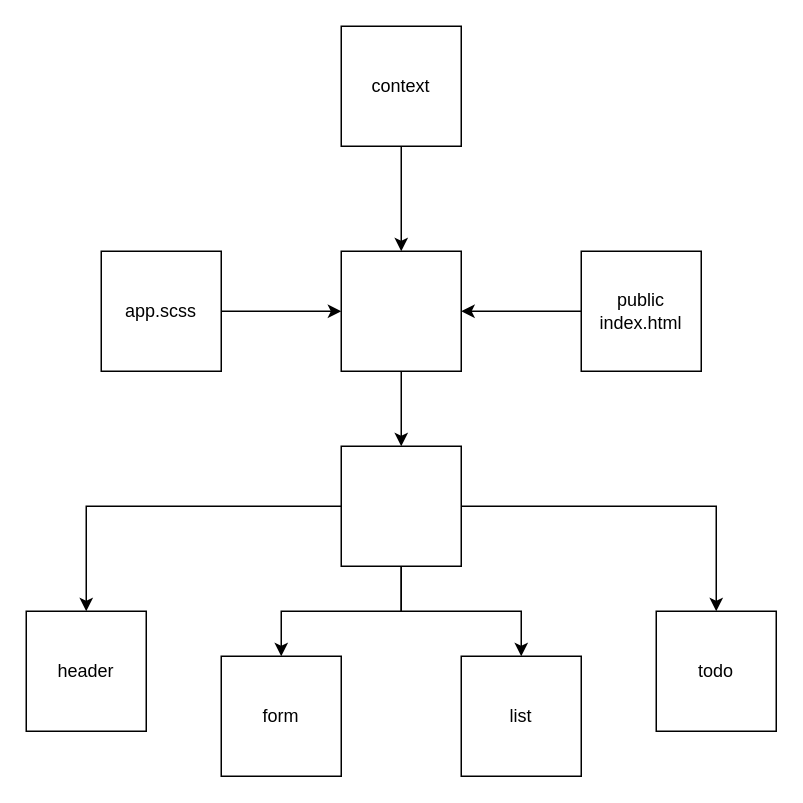
Some shapes in this 803 by 803 pixel diagram are drawn without their labels. Each missing label, with the box of its shape:
components: (340, 445, 461, 566)
src App.js: (340, 250, 461, 371)
